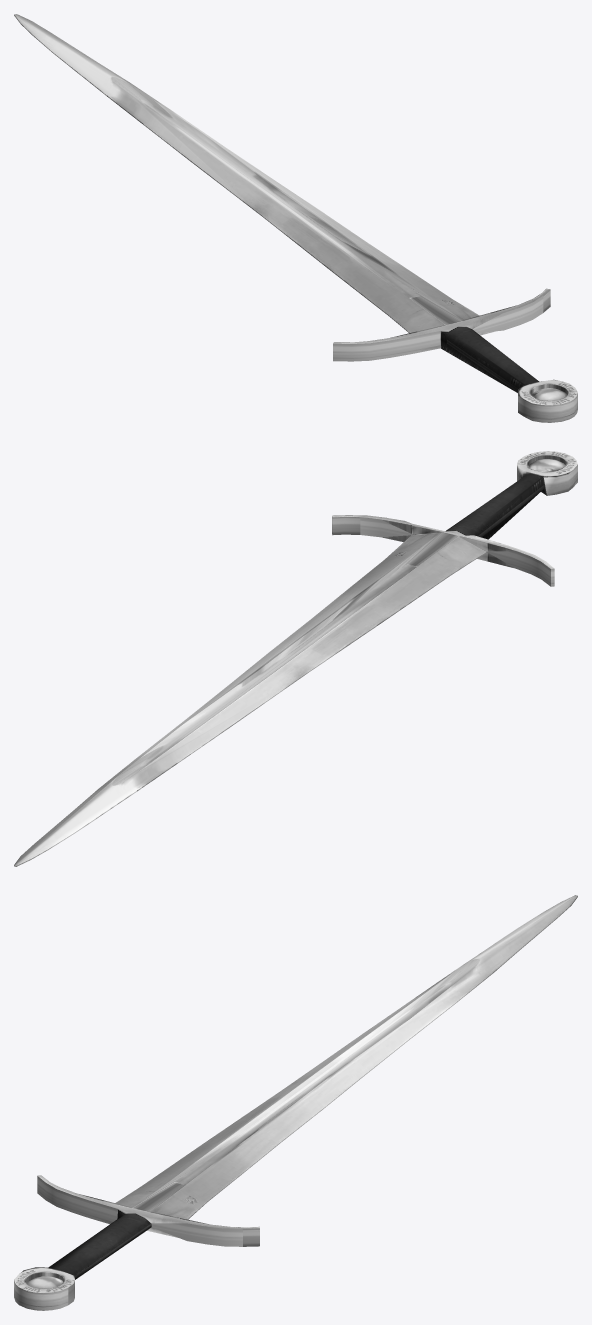
The model's file is sword.glb.
The picture shows the model from 3 angles, top to bottom: view 1: azimuth 30°, elevation 25°; view 2: azimuth 150°, elevation 25°; view 3: azimuth 330°, elevation 25°; orthographic projection.
Parts seen in each view (by area): view 1: Plane; view 2: Plane; view 3: Plane.
Part boxes in pixels (x1,y1,x2,y2): Plane: (14, 14, 577, 422); Plane: (14, 451, 577, 866); Plane: (14, 895, 577, 1310).
Size of the model in its own units: 0.2302 by 0.0177 by 0.9925.
Materials: 1 (1 with a texture image).
